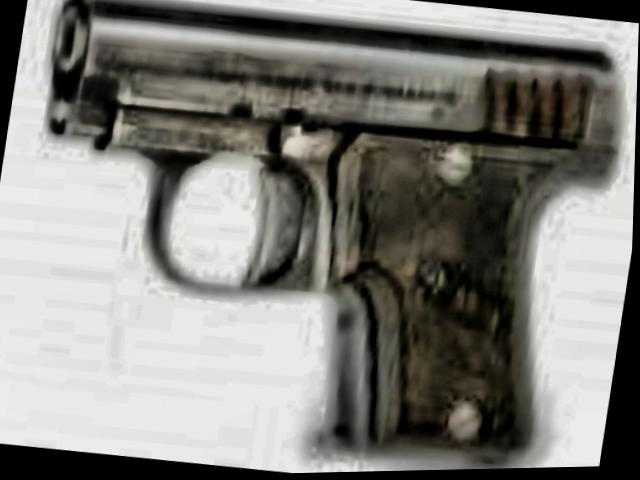pistol: (0, 0, 637, 480)
